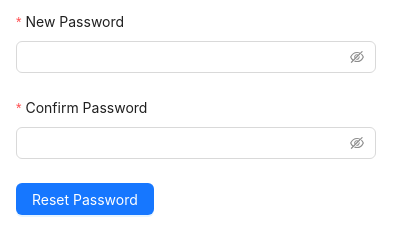
Scenario: ResetPassword Component › should display validation errors if password is not provided
# Click submit without entering any data
What coordinates should you click on to do the following:
click the button "Reset Password"
I would click on:
 (85, 199)
Its box is [16,183,154,215].
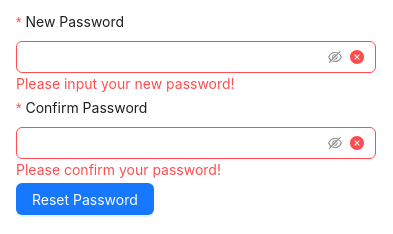
Check: the text "Please input your new password!" is shown, box [16,75,235,92]
Check: the text "Please confirm your password!" is shown, box [16,161,221,178]
